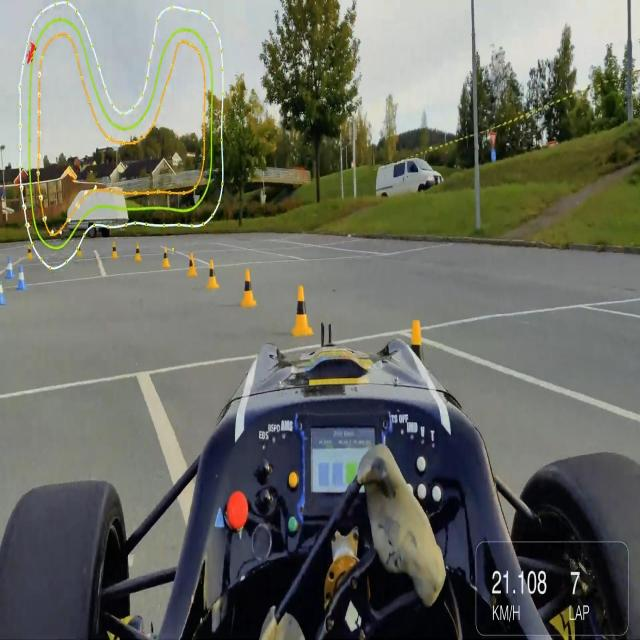blue_cone: (16, 262, 28, 292), (5, 255, 14, 280), (0, 278, 6, 305)
yellow_cone: (401, 319, 434, 428), (287, 284, 315, 336), (238, 267, 258, 309), (205, 257, 219, 291), (186, 248, 198, 280), (133, 241, 142, 262), (162, 246, 170, 268), (28, 243, 34, 262), (112, 242, 118, 260), (77, 240, 83, 258)
